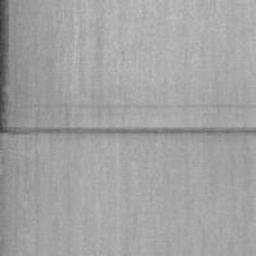Welding line: (0, 127, 256, 136)
